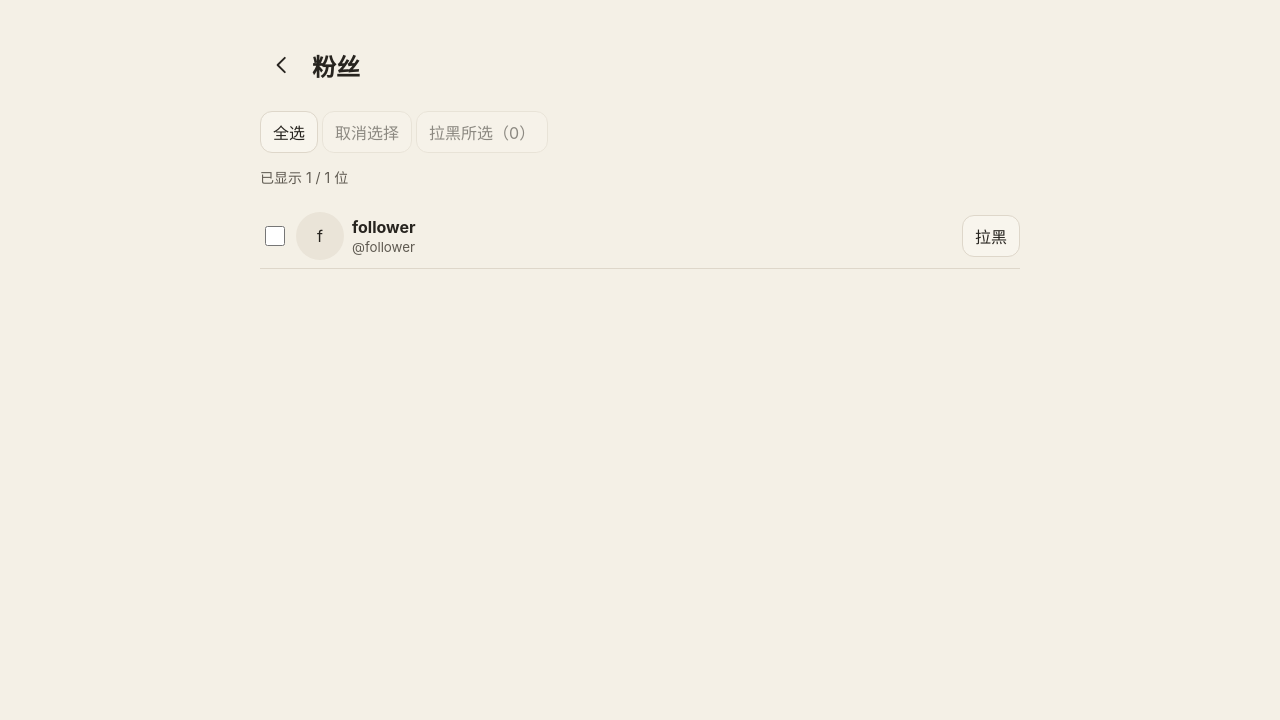
Test case: blocks an owner follower with its row action and never exposes mutations on another profile
Click the button "拉黑" at (991, 236), box [962,215,1020,257]
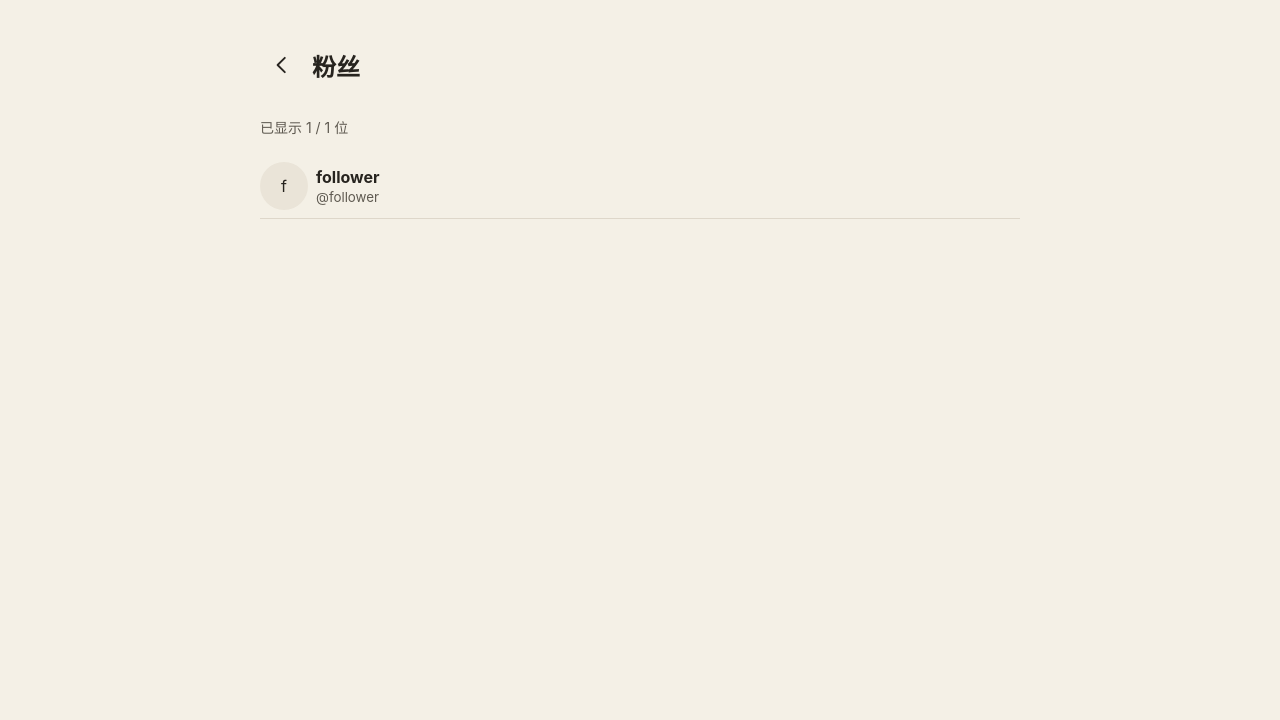
Expected: the checkbox is gone
